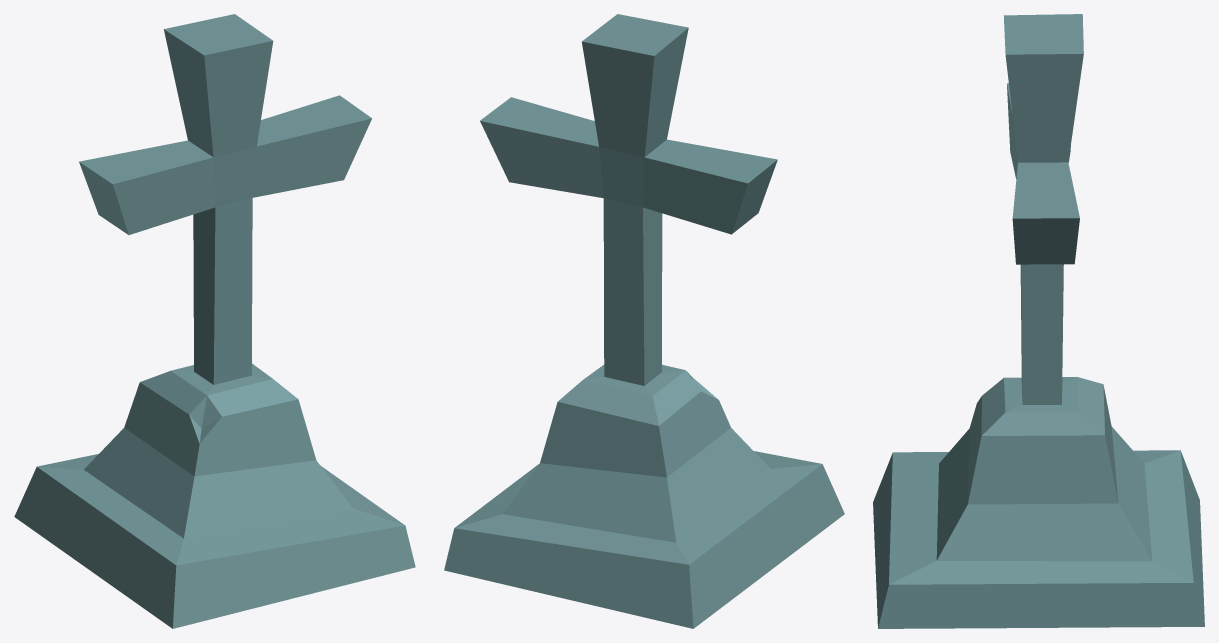
The model's file is Cementery_Tombstone1.fbx.
The picture shows the model from 3 angles, left to right: view 1: azimuth 30°, elevation 25°; view 2: azimuth 150°, elevation 25°; view 3: azimuth 270°, elevation 25°; orthographic projection. The views are drawn at different scales.
Parts seen in each view (by area): view 1: Cross_017; view 2: Cross_017; view 3: Cross_017.
Part boxes in pixels (x1=…): Cross_017: x1=14, y1=14, x2=415, y2=628; Cross_017: x1=444, y1=14, x2=844, y2=628; Cross_017: x1=873, y1=14, x2=1204, y2=628.
Bounding box in the file's own units: 35.66 × 63.91 × 35.94.
